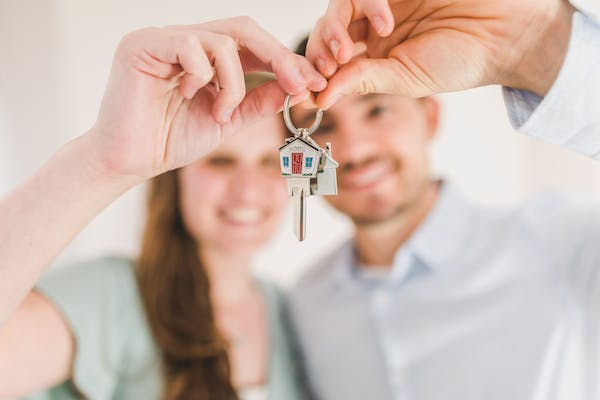key: (278, 137, 323, 243)
